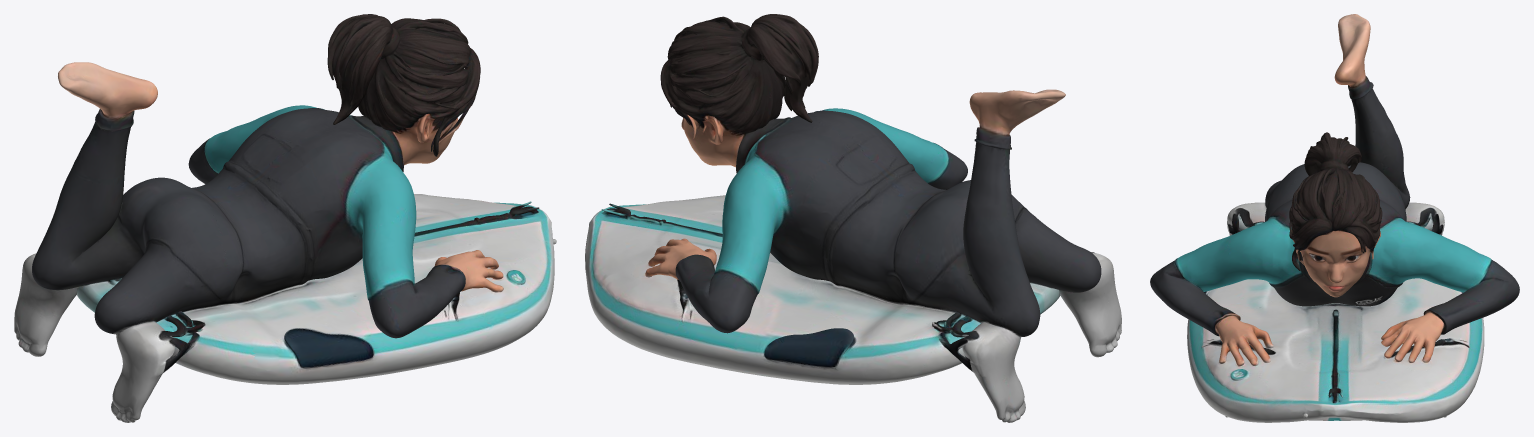
The model's file is bodyboarder-v2.glb.
3 renders of one model, left to right at view 1: azimuth 30°, elevation 25°; view 2: azimuth 150°, elevation 25°; view 3: azimuth 270°, elevation 25°, orthographic. The views are drawn at different scales.
Visible parts, largest first — view 1: tripo_node_1c615bc2-f8ff-4ef8-8a8b-84c4d31b0c9c; view 2: tripo_node_1c615bc2-f8ff-4ef8-8a8b-84c4d31b0c9c; view 3: tripo_node_1c615bc2-f8ff-4ef8-8a8b-84c4d31b0c9c.
Boxes of the visible parts, box(x1,y1,x2,y2) form: tripo_node_1c615bc2-f8ff-4ef8-8a8b-84c4d31b0c9c: box(14, 14, 556, 422); tripo_node_1c615bc2-f8ff-4ef8-8a8b-84c4d31b0c9c: box(585, 14, 1121, 422); tripo_node_1c615bc2-f8ff-4ef8-8a8b-84c4d31b0c9c: box(1150, 14, 1519, 422).
Size of the model in its own units: 1 by 0.6124 by 0.8077.
1 material, 1 textured.
